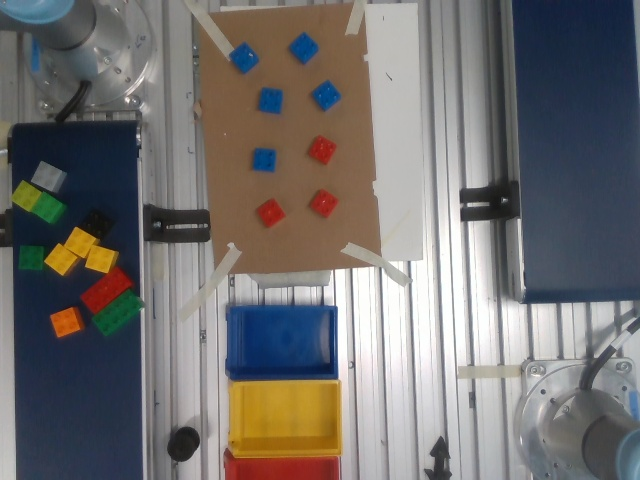duplo_4_blue: (309, 75, 343, 113), (288, 31, 319, 68), (228, 39, 258, 76), (256, 83, 286, 116), (250, 145, 281, 176)
duplo_4_red: (307, 133, 340, 167), (308, 184, 340, 219), (255, 196, 285, 229)
